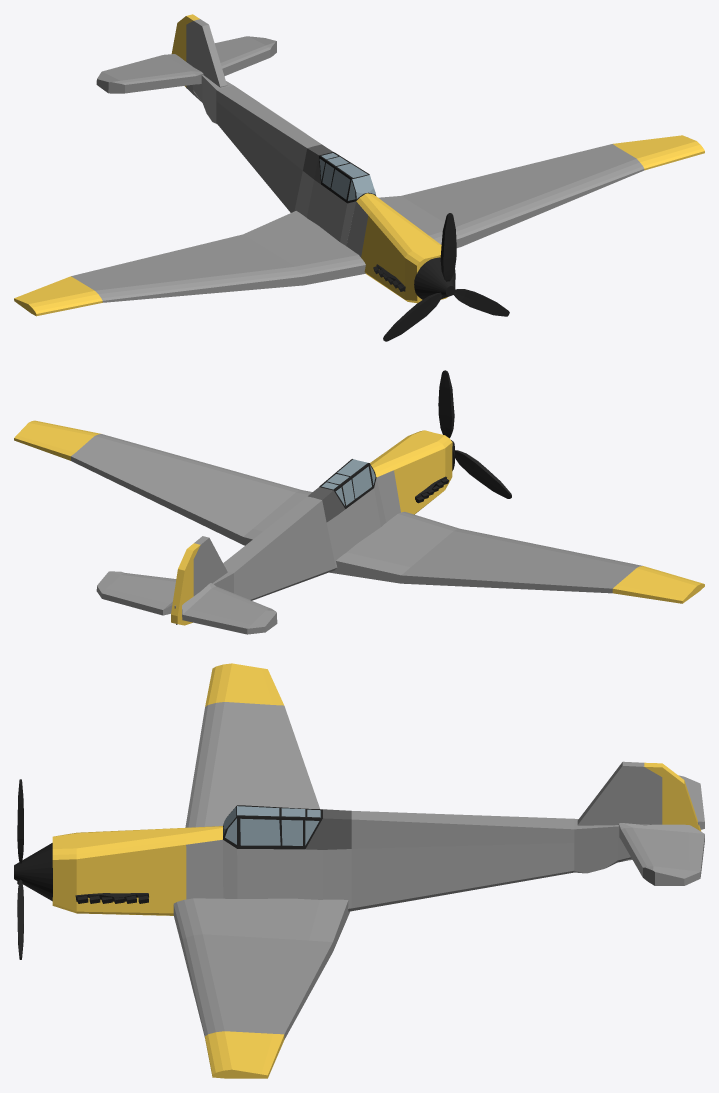
3 renders of one model, top to bottom at view 1: azimuth 30°, elevation 25°; view 2: azimuth 150°, elevation 25°; view 3: azimuth 270°, elevation 25°, orthographic. The views are drawn at different scales.
Visible parts, largest first — view 1: Cylinder; view 2: Cylinder; view 3: Cylinder.
Part boxes in pixels (left/top/right/bottom): Cylinder: left=14, top=14, right=704, bottom=341; Cylinder: left=14, top=370, right=704, bottom=634; Cylinder: left=14, top=663, right=704, bottom=1078.
Size of the model in its own units: 6.73 by 1.23 by 4.84.
1 material, 1 textured.
